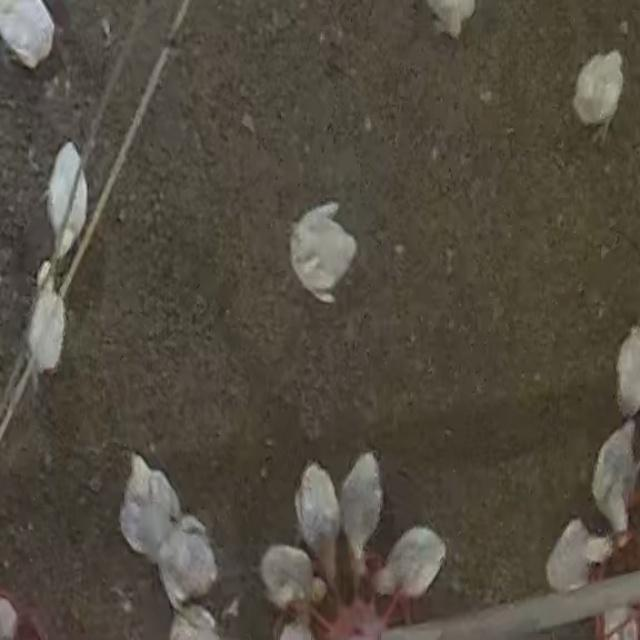chicken: (282, 200, 362, 308), (293, 458, 350, 589), (113, 448, 182, 556), (370, 522, 452, 599), (154, 513, 217, 611), (42, 138, 92, 259), (572, 44, 627, 144), (339, 452, 384, 573), (545, 516, 613, 595), (592, 421, 636, 537), (258, 539, 328, 608), (29, 262, 70, 376)
